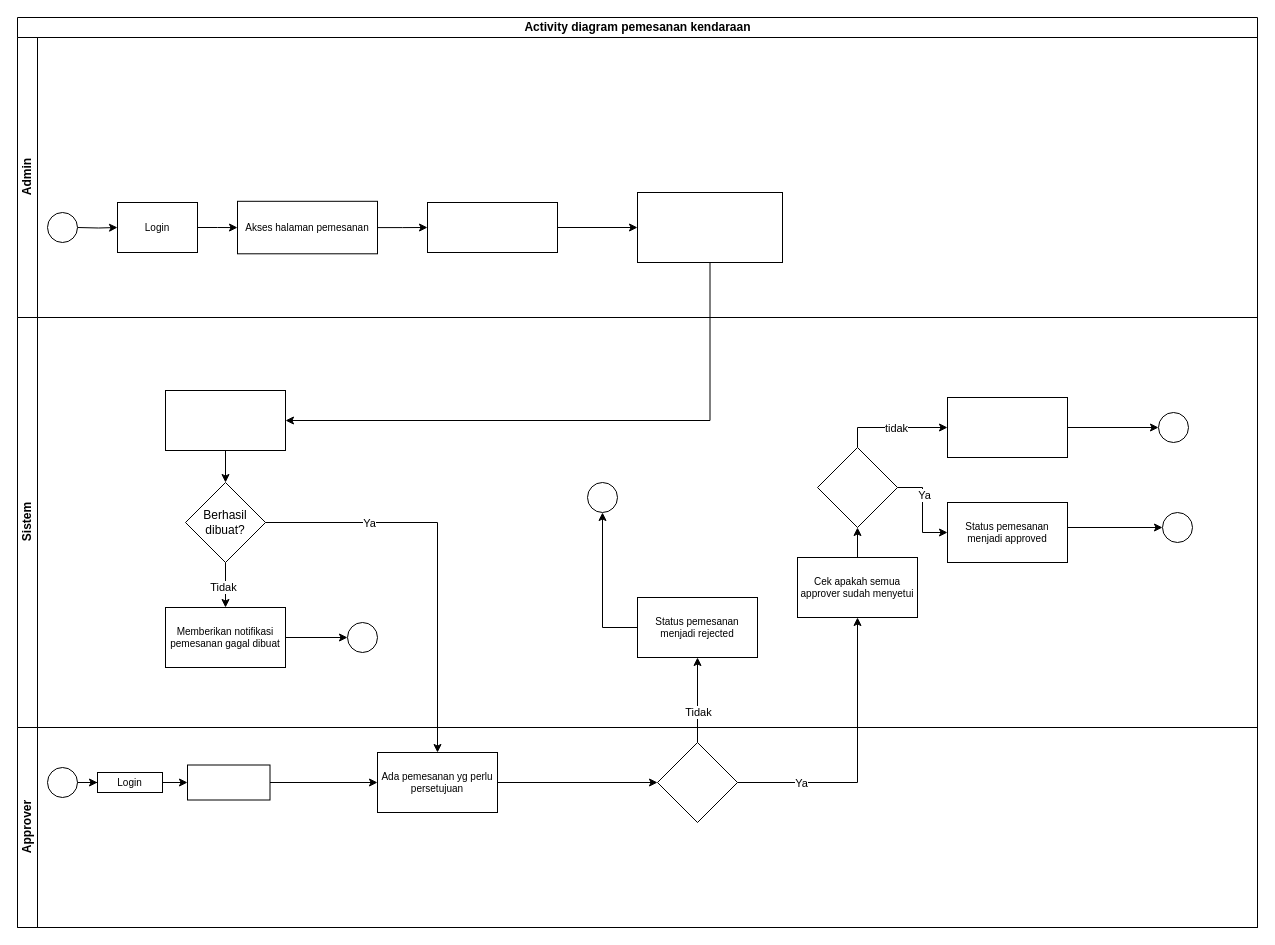
Some shapes in this 1275 by 945 pixel diagram are drawn without their labels. Each missing label, with the centre of its shape:
Akses halaman pembuatan pemesanan: point (492, 227)
Akses halaman persetujuan: point (228, 782)
Apakah setuju: point (697, 782)
Membuat pemesanan: point (225, 420)
Memilih kendaraan, tambang, driver dan pihak yang memberikan persetujuan: point (709, 227)
Menunggu persetujuan approver lain: point (1007, 427)
